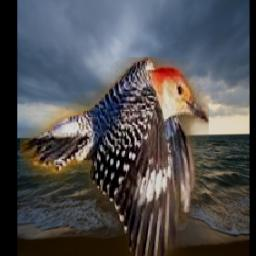Woodpecker: (20, 57, 209, 256)
